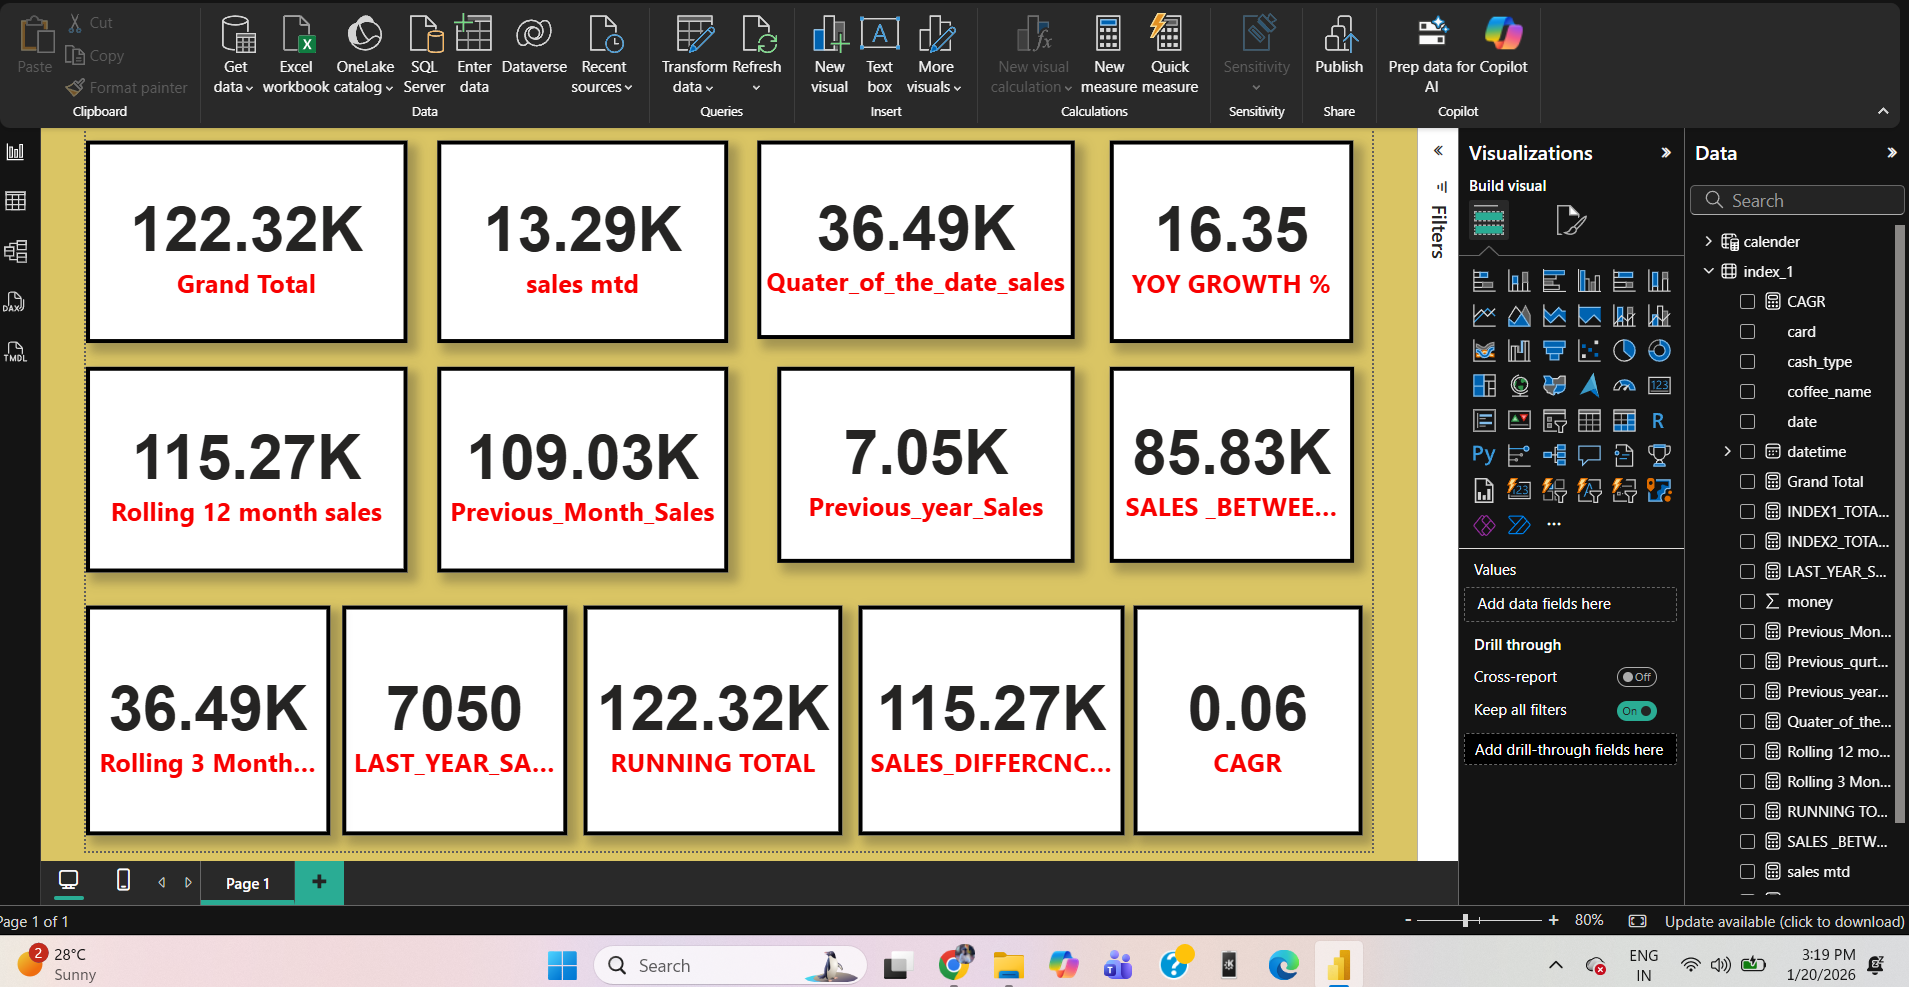

What the dashboard file says about the page in this screenshot:
{"tool":"powerbi","page":{"name":"Page 1","canvas":[1280,720],"ordinal":0},"visuals":[{"type":"card","fields":{"Values":["index_1.Grand_total"]},"box":[0,12.4,319.7,201.5],"z":0},{"type":"card","fields":{"Values":["index_1.sales mtd"]},"box":[349.6,12.4,289.8,201.5],"z":1000},{"type":"card","fields":{"Values":["index_1.Quater_of_the_date_sales"]},"box":[668,12.4,316,197.8],"z":2000},{"type":"card","fields":{"Values":["index_1.Previous_year_Sales"]},"box":[687.5,237.4,296.4,194.9],"z":3000},{"type":"card","fields":{"Values":["index_1.YOY GROWTH %"]},"box":[1018.8,12.4,242.6,201.5],"z":4000},{"type":"card","fields":{"Values":["index_1.LAST_YEAR_SAME_PERIOD"]},"box":[255.2,474.8,223.7,229.2],"z":5000},{"type":"card","fields":{"Values":["index_1.Rolling 3 Months sales"]},"box":[0,474.8,242.9,229.2],"z":6000},{"type":"card","fields":{"Values":["index_1.Rolling 12 month sales"]},"box":[0,237.4,319.7,204.5],"z":7000},{"type":"card","fields":{"Values":["index_1.previous_month_sales"]},"box":[349.9,237.4,289.5,204.5],"z":8000},{"type":"card","fields":{"Values":["index_1.SALES _BETWEEN_TWO_DATES"]},"box":[1018.2,237.4,242.9,194.9],"z":9000},{"type":"card","fields":{"Values":["index_1.SALES_DIFFERCNCE_YOY"]},"box":[768.4,474.8,264.8,229.2],"z":10000},{"type":"card","fields":{"Values":["index_1.CAGR"]},"box":[1042.4,475.2,227.6,228.9],"z":11000},{"type":"card","fields":{"Values":["index_1.RUNNING TOTAL"]},"box":[495.4,474.8,258,229.2],"z":12000}]}

Visuals, with their boxes on the page's 1280x720 design canvas (x1, y1, x2, y2). These are canvas units, not pixel positions in the 1909x987 screenshot, which may show the page scaled, cropped or inside an application window:
card - index_1.Grand_total: crop(0, 12, 320, 214)
card - index_1.sales mtd: crop(350, 12, 639, 214)
card - index_1.Quater_of_the_date_sales: crop(668, 12, 984, 210)
card - index_1.Previous_year_Sales: crop(688, 237, 984, 432)
card - index_1.YOY GROWTH %: crop(1019, 12, 1261, 214)
card - index_1.LAST_YEAR_SAME_PERIOD: crop(255, 475, 479, 704)
card - index_1.Rolling 3 Months sales: crop(0, 475, 243, 704)
card - index_1.Rolling 12 month sales: crop(0, 237, 320, 442)
card - index_1.previous_month_sales: crop(350, 237, 639, 442)
card - index_1.SALES _BETWEEN_TWO_DATES: crop(1018, 237, 1261, 432)
card - index_1.SALES_DIFFERCNCE_YOY: crop(768, 475, 1033, 704)
card - index_1.CAGR: crop(1042, 475, 1270, 704)
card - index_1.RUNNING TOTAL: crop(495, 475, 753, 704)
